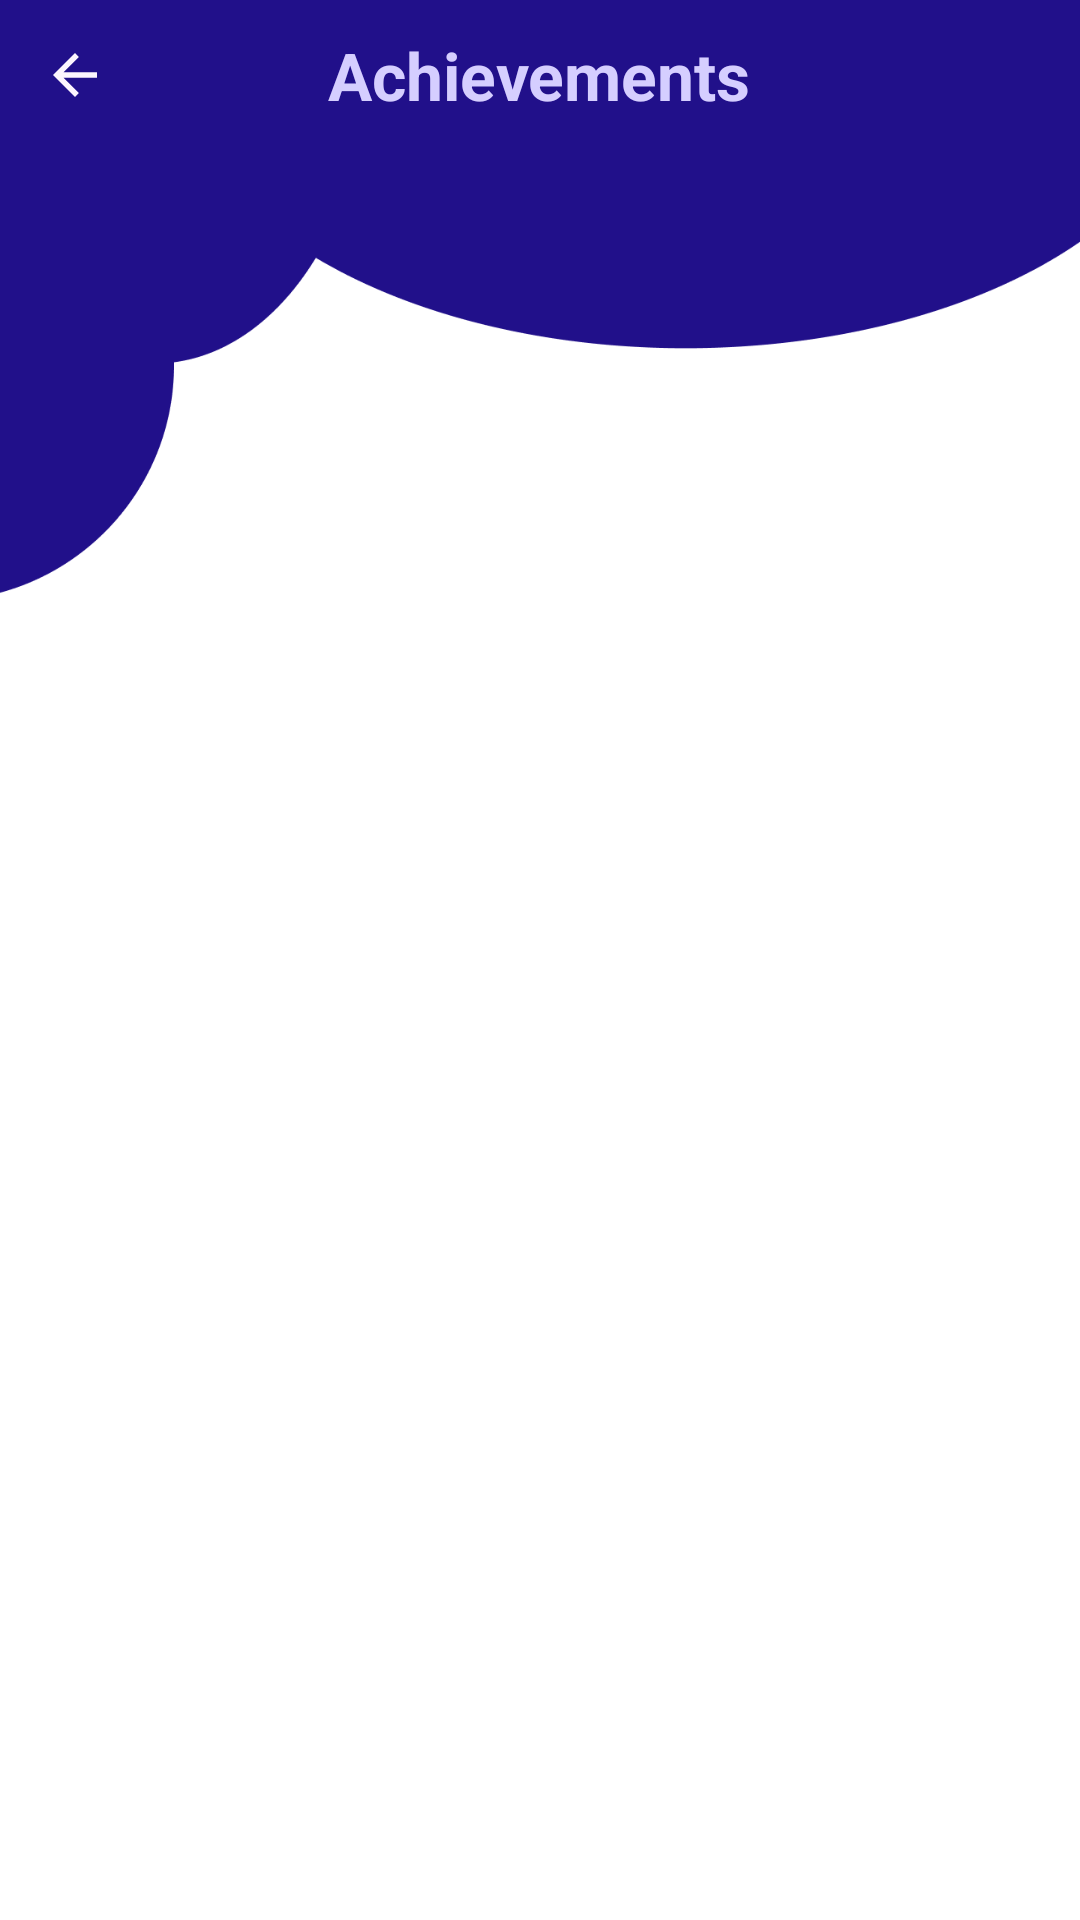

Screen size 1080px×1920px. Icon name, then its center in pixels as [x,y]:
arrow back: [75,75]
